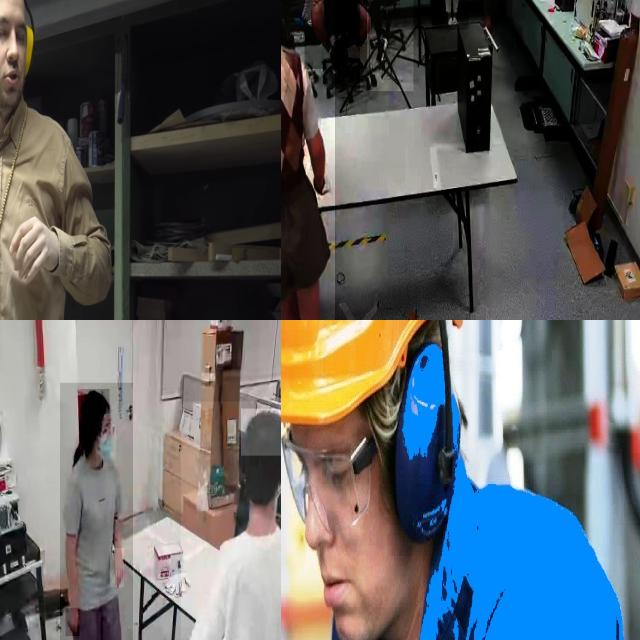Ear-protection: (406, 320, 470, 574), (0, 0, 36, 134)
face_mask: (96, 424, 116, 466)
hand_noglove: (110, 548, 124, 588), (66, 608, 80, 637)
head_helmet: (281, 320, 478, 436), (281, 422, 399, 536)
head_nohelmet: (241, 408, 281, 456), (80, 389, 110, 415)
person: (181, 401, 281, 640), (60, 383, 133, 640), (281, 0, 335, 320), (360, 0, 414, 92), (304, 0, 367, 68)
